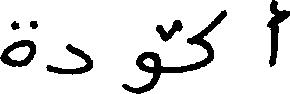X: (125, 20, 160, 93), (189, 5, 225, 75), (0, 16, 34, 71), (46, 39, 91, 79), (270, 0, 289, 71)
